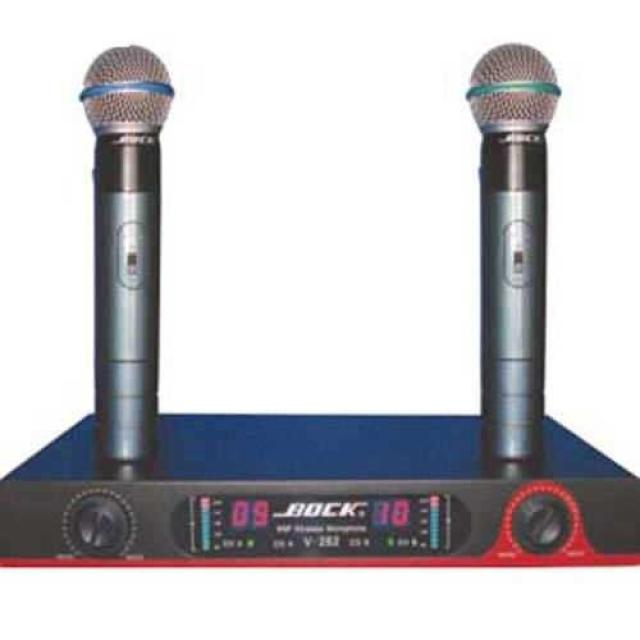microphone: (465, 46, 562, 475), (78, 48, 174, 472)
